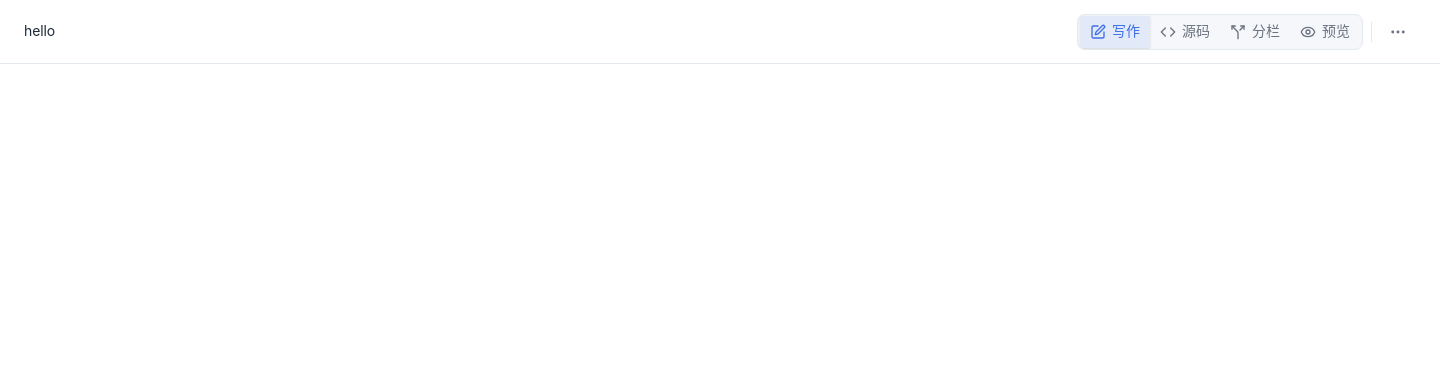
Test: EditorToolbar / 更多菜单 / 工具入口 › 加密笔记：AI 菜单项禁用并说明原因（决策③）
Click the button named "更多" at (1398, 32), box [1380,14,1416,50]
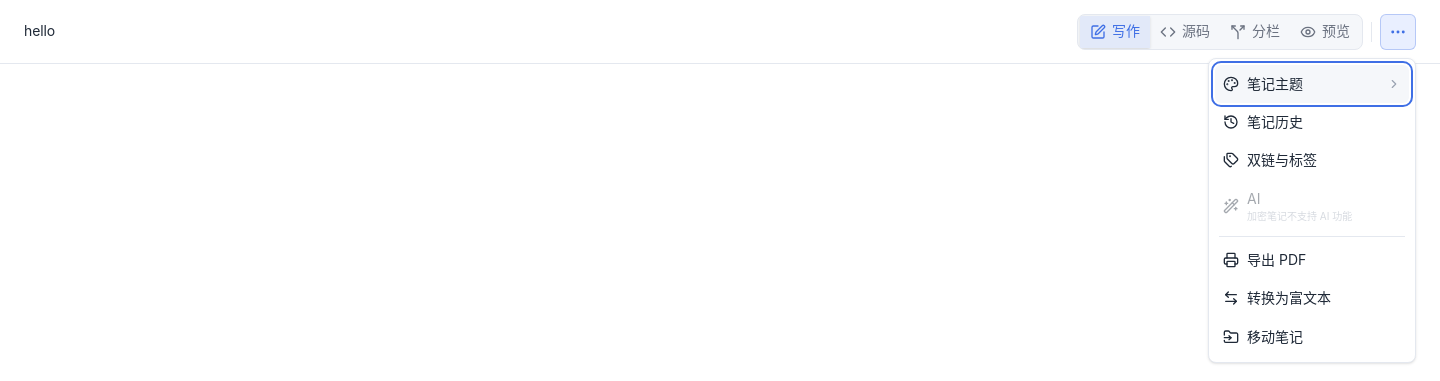
Result: the menu item "AI 加密笔记不支持 AI 功能" is disabled at [1215,180,1409,232]
Result: the text "加密笔记不支持 AI 功能" is shown at [1247,210,1352,222]
Result: the menu item "双链与标签" is enabled at [1215,141,1409,180]
